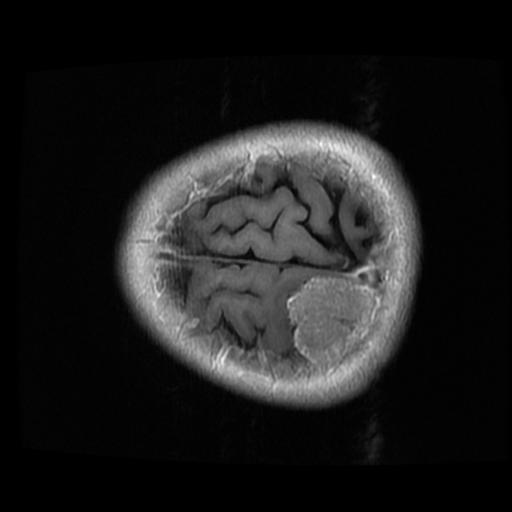meningioma: (284, 274, 378, 365)
